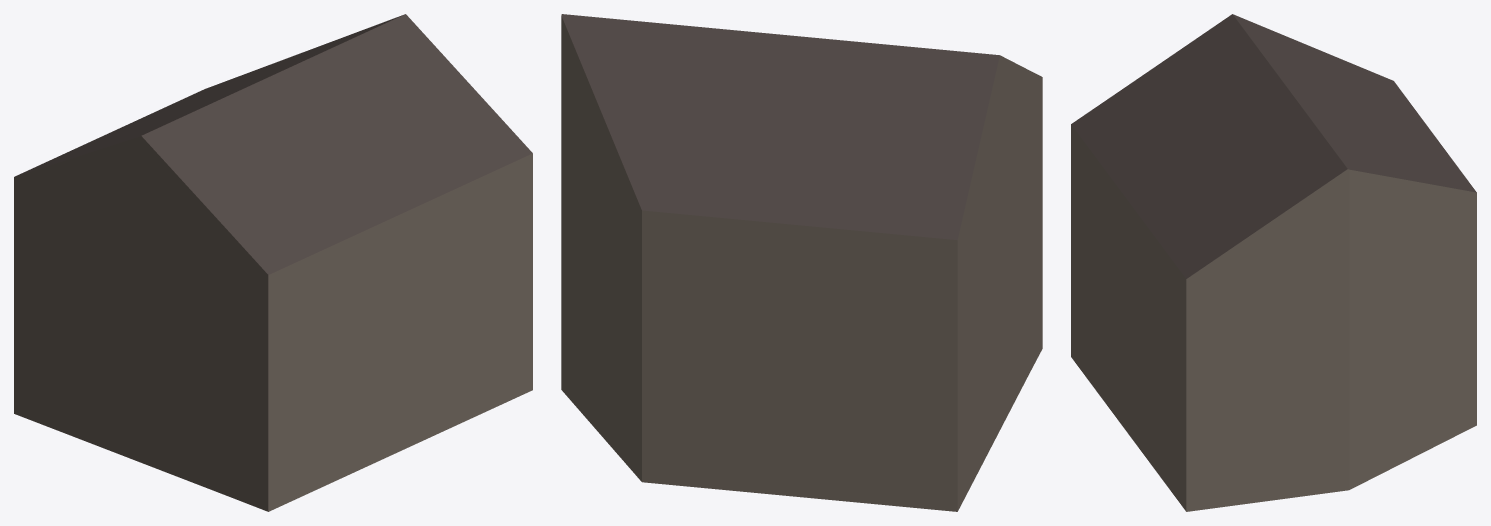
3 views of the same model, side by side, from view 1: azimuth 30°, elevation 25°; view 2: azimuth 150°, elevation 25°; view 3: azimuth 270°, elevation 25° (orthographic). The views are drawn at different scales.
Parts seen in each view (by area): view 1: HP-w1198645046; view 2: HP-w1198645046; view 3: HP-w1198645046.
Boxes of the visible parts, bbox=[...] form: HP-w1198645046: bbox=[14, 14, 532, 511]; HP-w1198645046: bbox=[561, 14, 1042, 511]; HP-w1198645046: bbox=[1071, 14, 1476, 511].
Size of the model in its own units: 10.96 by 8.28 by 9.48.
